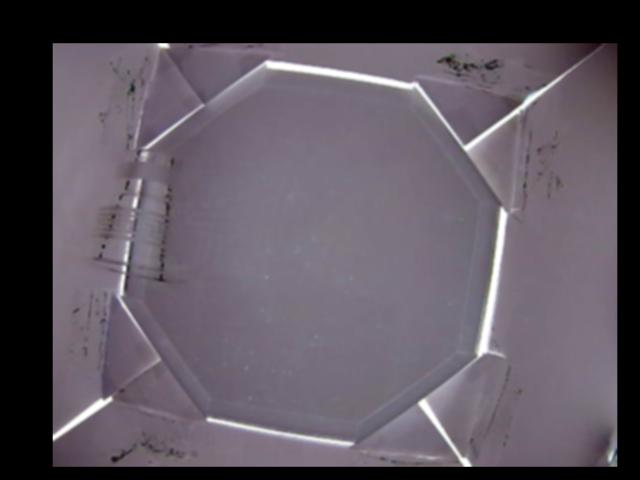Cup: (87, 149, 189, 286)
